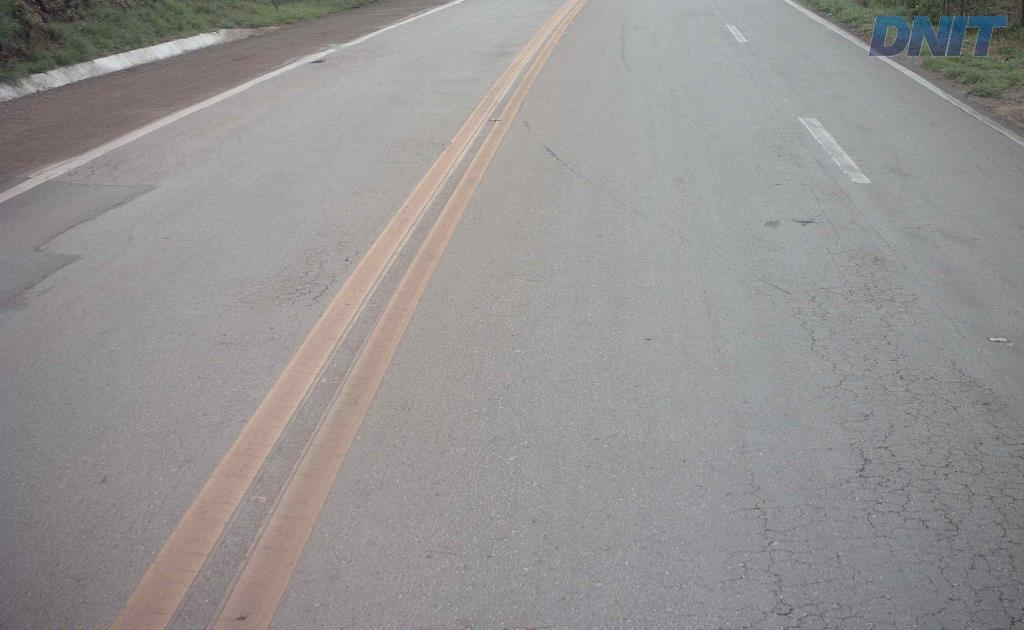crack: (992, 479, 1023, 548), (857, 279, 899, 310)
